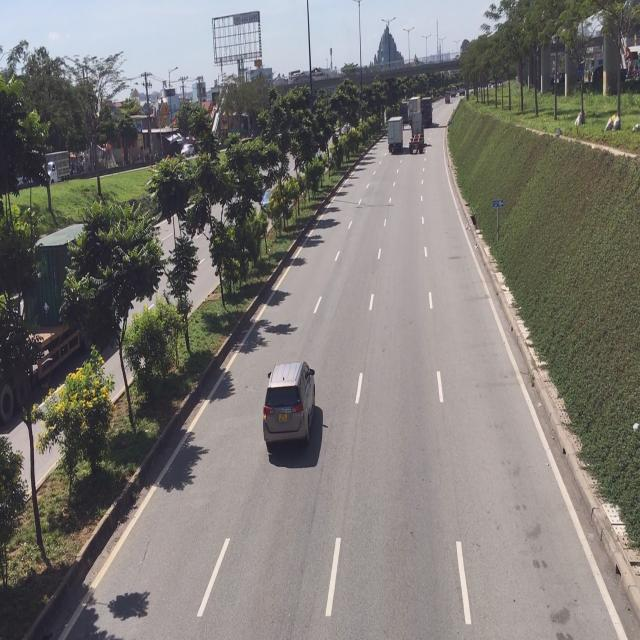car: (263, 360, 320, 460)
truck: (407, 111, 426, 156), (387, 117, 403, 153)
